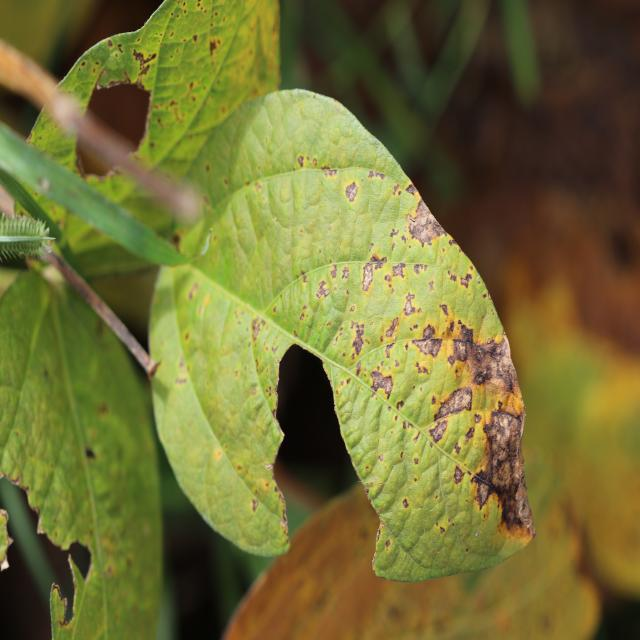Bacterial_Blight: (498, 466, 537, 536), (405, 198, 445, 247), (483, 411, 524, 457), (432, 386, 473, 429), (369, 367, 394, 399), (411, 335, 445, 357), (350, 323, 366, 358), (455, 321, 475, 347), (474, 479, 490, 509), (251, 316, 266, 343), (403, 293, 419, 317), (361, 263, 374, 291), (384, 316, 399, 339), (316, 279, 330, 300), (345, 181, 359, 202), (474, 368, 491, 385), (460, 272, 474, 289), (453, 465, 465, 484), (391, 263, 406, 278), (188, 282, 199, 301), (368, 169, 385, 181), (370, 252, 387, 263), (323, 168, 337, 178), (341, 266, 350, 280), (251, 498, 259, 512), (175, 376, 187, 385), (297, 155, 304, 167), (376, 527, 381, 542), (402, 498, 409, 508), (385, 539, 391, 548), (378, 454, 384, 462), (413, 457, 419, 465), (440, 526, 445, 534)
Soybean: (149, 89, 535, 581)
